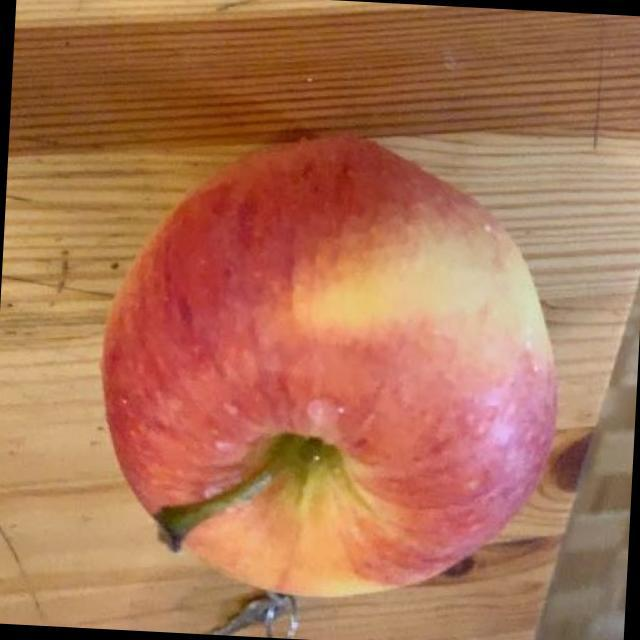Apple: (70, 115, 582, 626)
